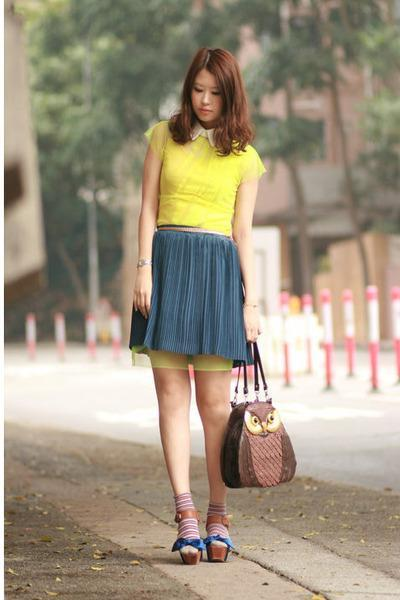short sleeve shirt: (143, 115, 268, 228)
skirt: (127, 230, 253, 367)
